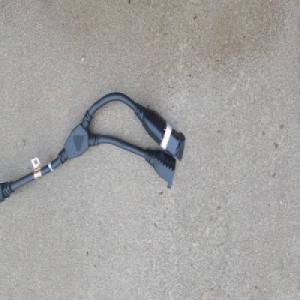Wire: (0, 92, 185, 204)
